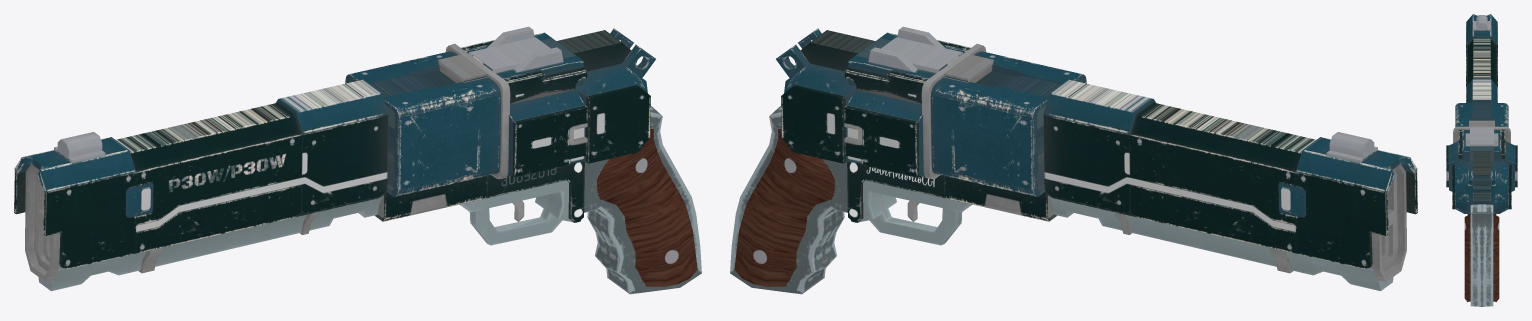
The model's file is pistol-custom.glb.
3 views of the same model, side by side, from view 1: azimuth 30°, elevation 25°; view 2: azimuth 150°, elevation 25°; view 3: azimuth 270°, elevation 25° (orthographic). The views are drawn at different scales.
Visible parts, largest first — view 1: P30W_P30W_P30W_P30W_0; view 2: P30W_P30W_P30W_P30W_0; view 3: P30W_P30W_P30W_P30W_0.
Part boxes in pixels (x1,y1,x2,y2): P30W_P30W_P30W_P30W_0: (14, 26, 701, 294); P30W_P30W_P30W_P30W_0: (730, 26, 1417, 294); P30W_P30W_P30W_P30W_0: (1446, 14, 1517, 306).
Size of the model in its own units: 0.5281 by 0.2174 by 0.0985.
Materials: 1 (1 with a texture image).
